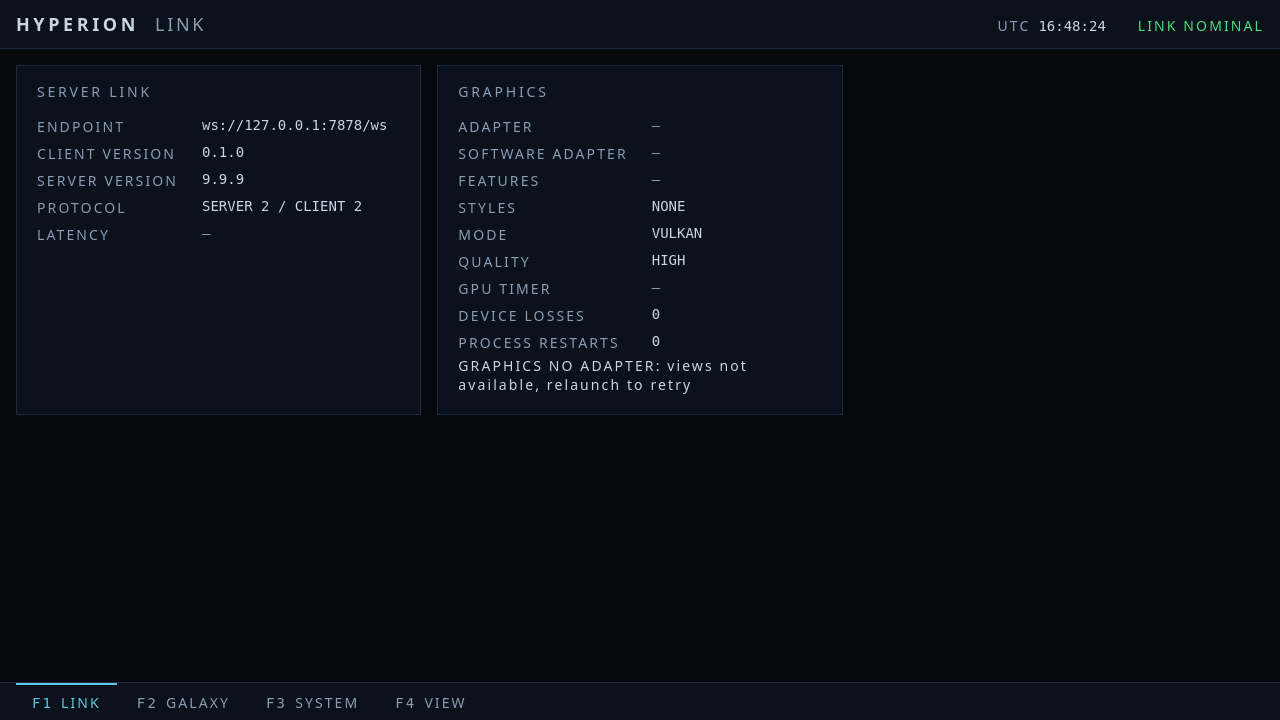
Test: the GALAXY readout's stars › reads a neutron star's radius in km and its pulsar as not modelled
Press F2
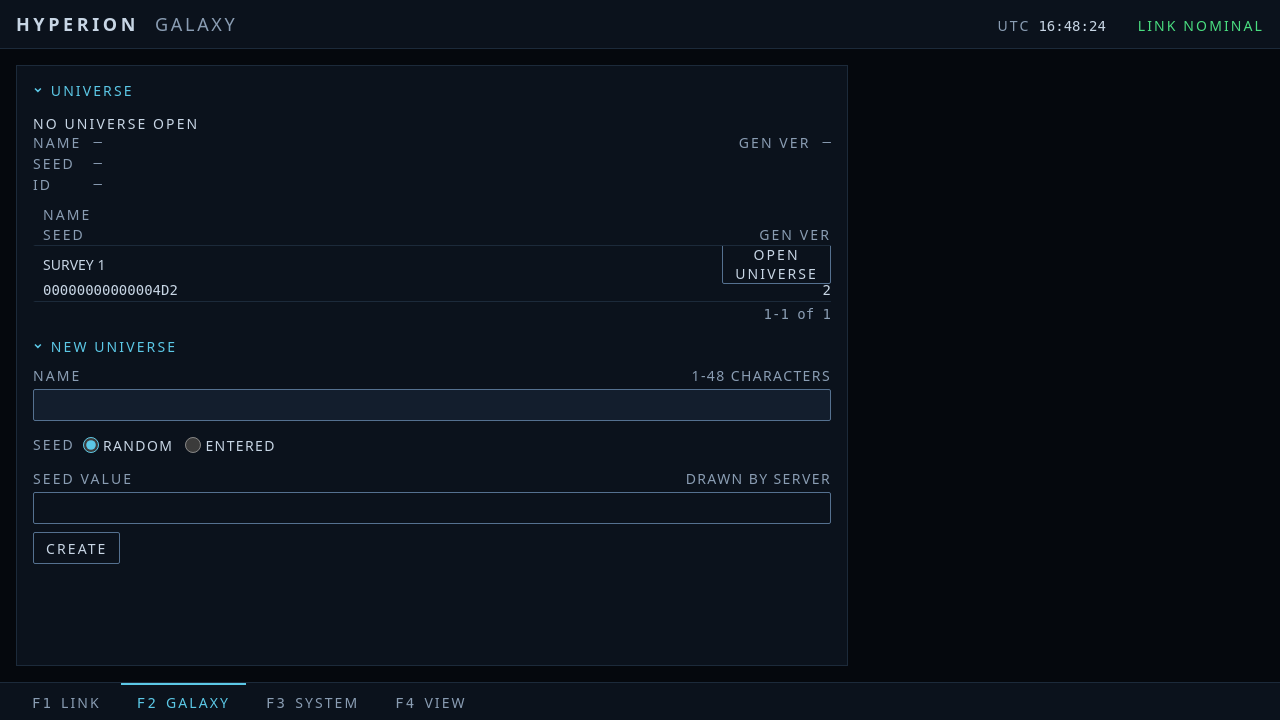
Click the button with aria-label "Open universe SURVEY 1".
click(777, 264)  # box [722,244,831,284]
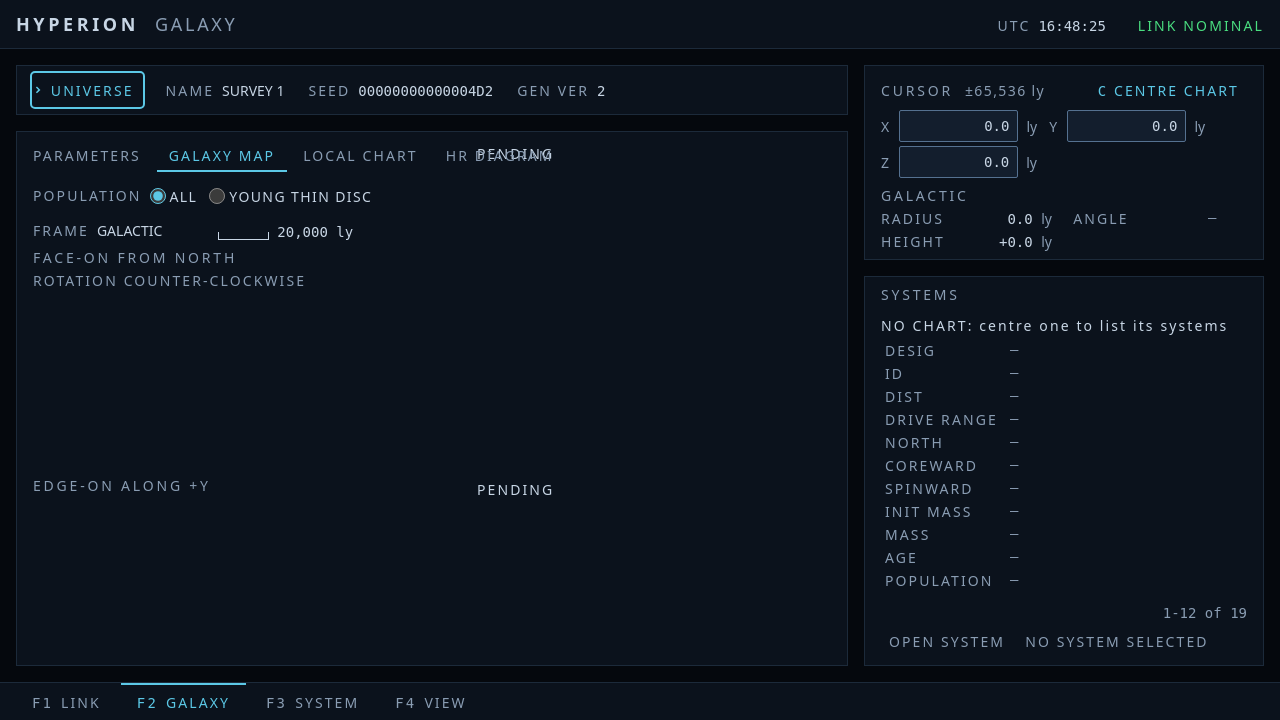
Replace the text in the field labelled "X" with "26000" at (959, 126), box [899,110,1018,142]
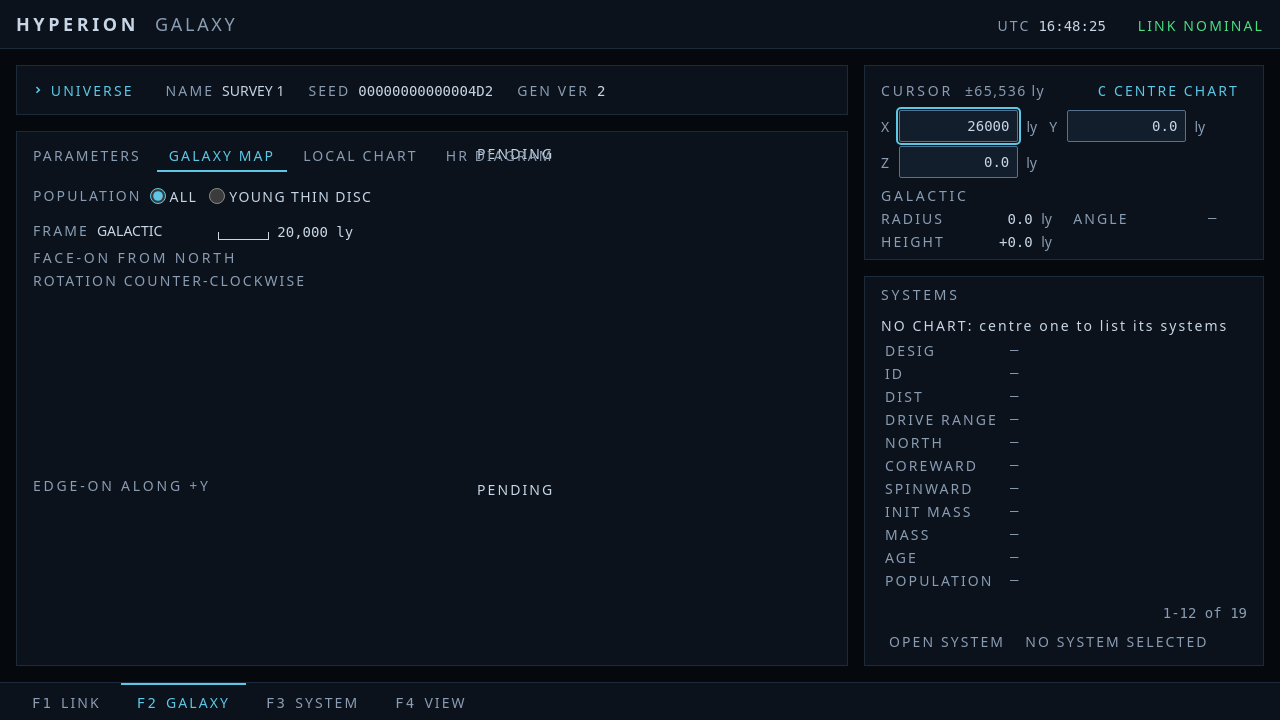
Click the button "C CENTRE CHART".
click(1168, 90)  # box [1090,74,1247,106]
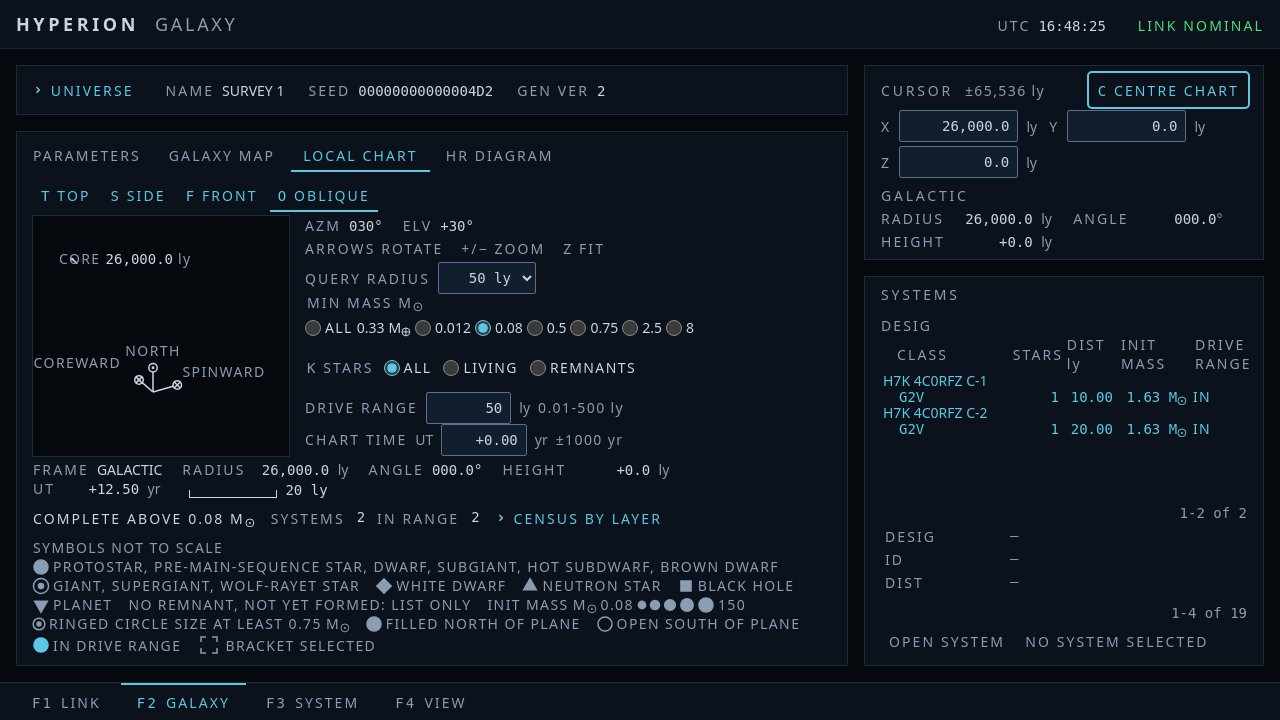
Click the option with aria-label "H7K 4C0RFZ C-1,".
click(935, 380)  # box [881,373,1247,405]
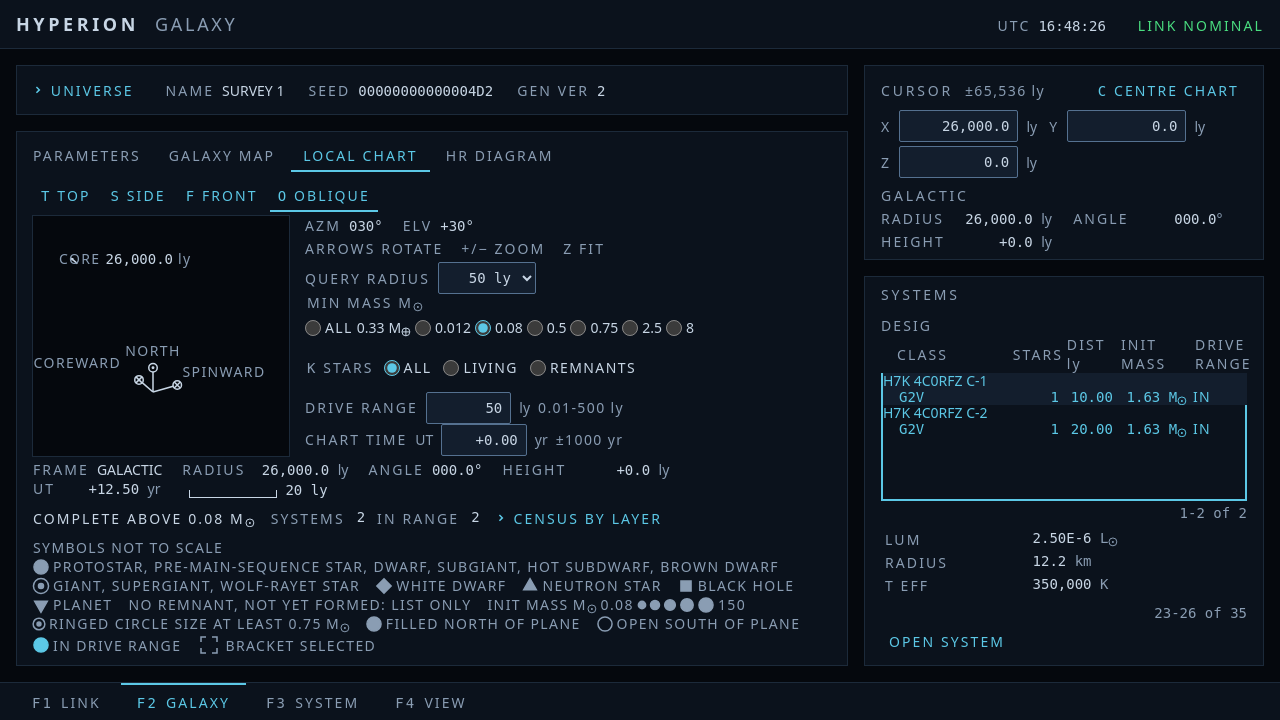
Check: the element showing "NEUTRON STAR" is shown, box [522,576,662,595]
Check: the element showing "12.2 km" is shown, box [1032,553,1092,569]
